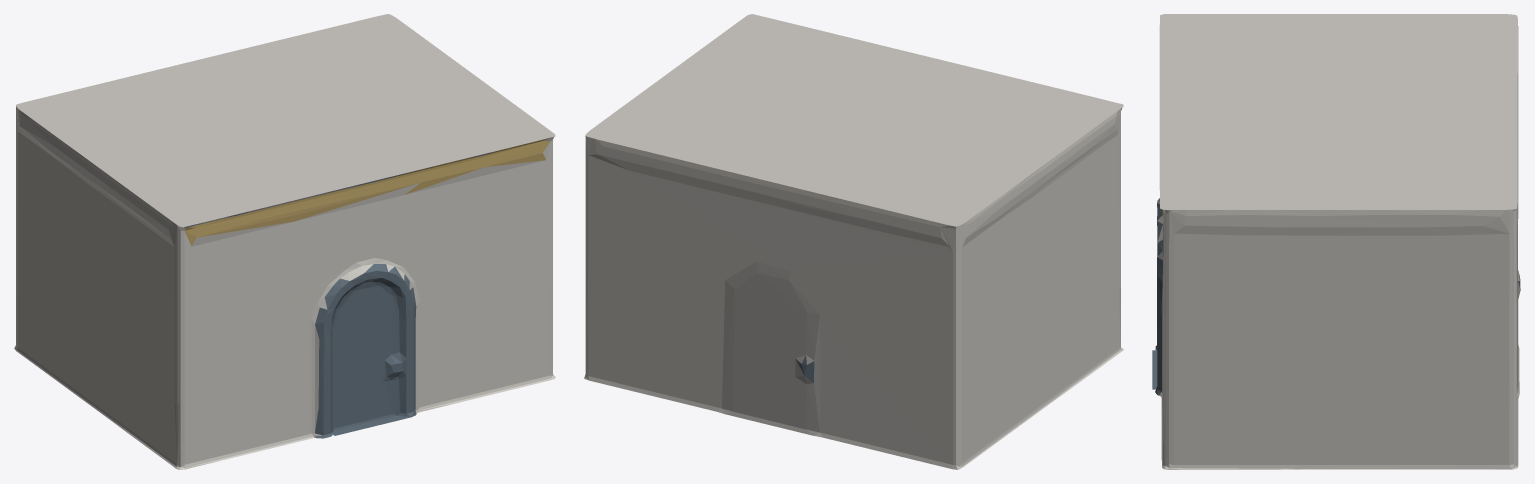
Rendered from etape-1.glb.
The picture shows the model from 3 angles, left to right: view 1: azimuth 30°, elevation 25°; view 2: azimuth 150°, elevation 25°; view 3: azimuth 270°, elevation 25°; orthographic projection. The views are drawn at different scales.
Parts seen in each view (by area): view 1: geometry_0; view 2: geometry_0; view 3: geometry_0.
Part boxes in pixels (x1,y1,x2,y2): geometry_0: (14, 14, 555, 469); geometry_0: (584, 14, 1123, 469); geometry_0: (1152, 14, 1520, 469).
Size of the model in its own units: 0.8138 by 0.4998 by 0.6428.
